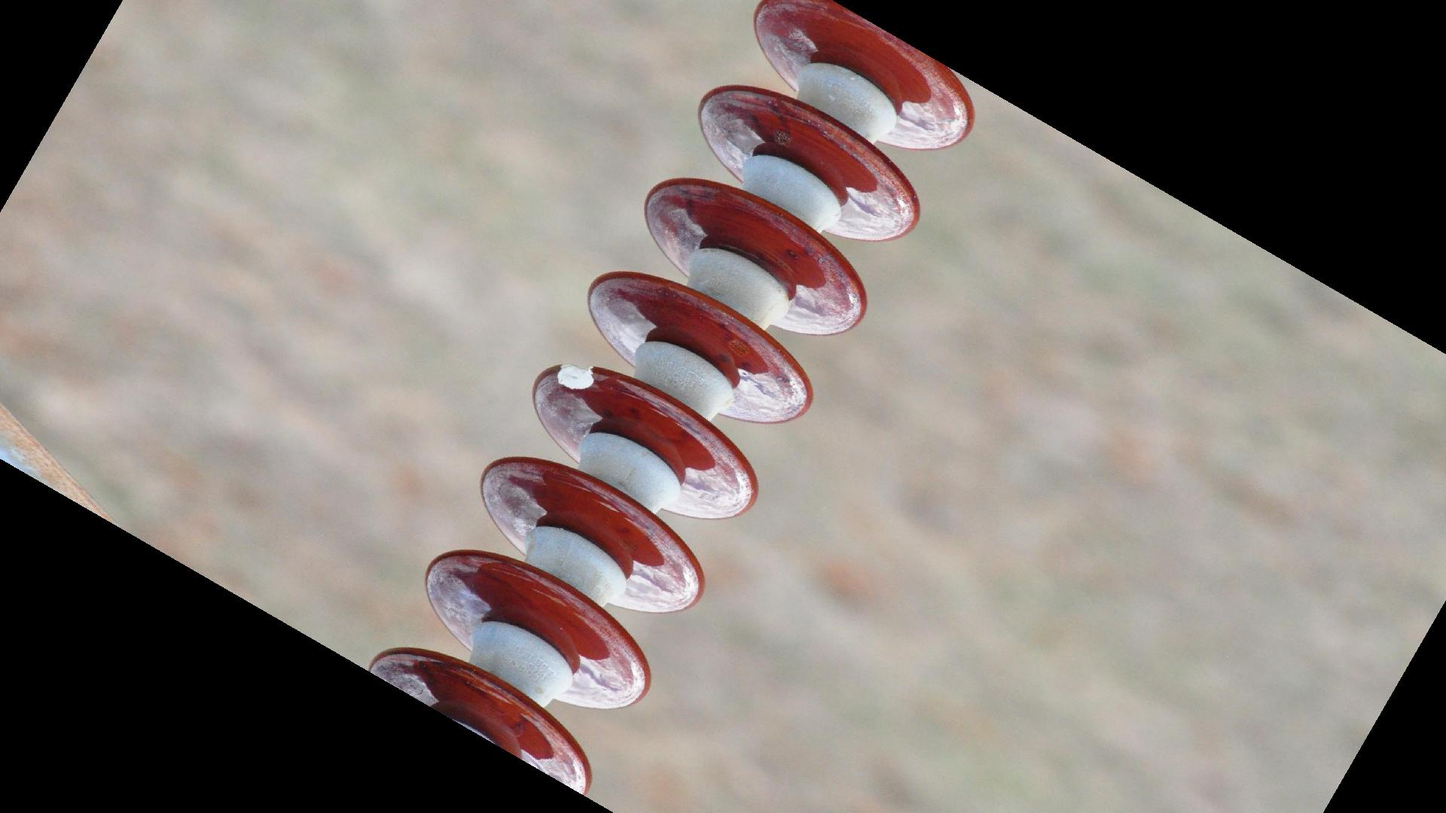insulator: (361, 1, 978, 796)
insulator_breakage: (546, 358, 613, 404)
